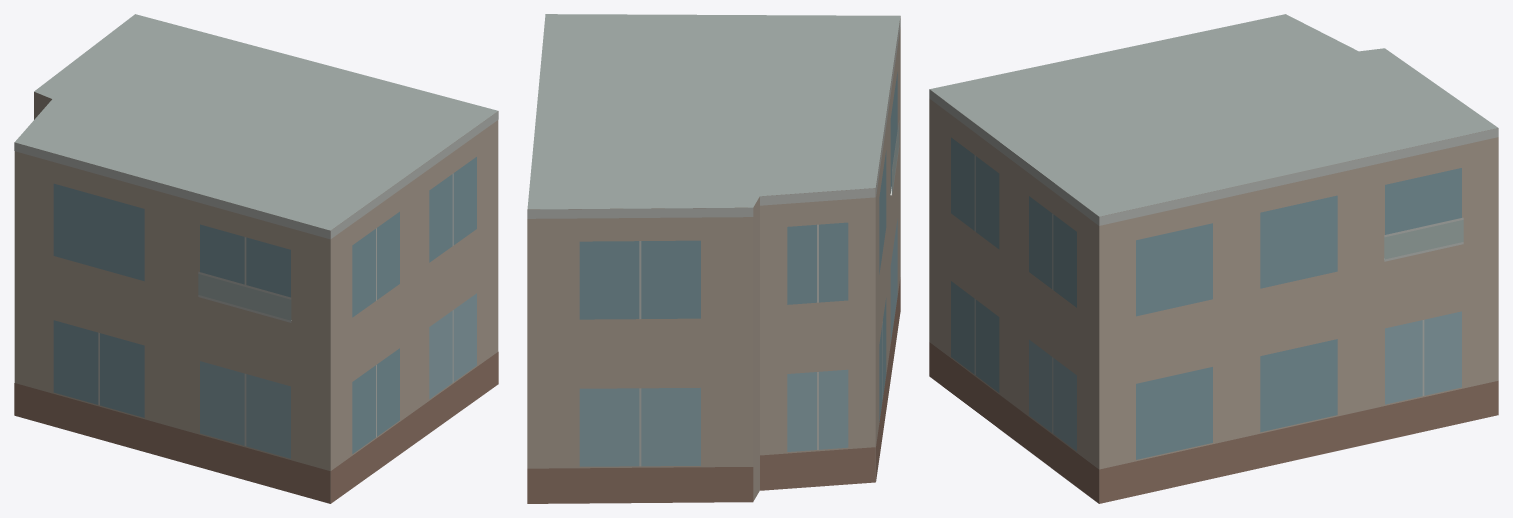
Rendered from survey-upis-32596282.glb.
3 views of the same model, side by side, from view 1: azimuth 30°, elevation 25°; view 2: azimuth 150°, elevation 25°; view 3: azimuth 270°, elevation 25° (orthographic). The views are drawn at different scales.
Visible parts, largest first — view 1: survey-upis-32596282.tmp; view 2: survey-upis-32596282.tmp; view 3: survey-upis-32596282.tmp.
Part boxes in pixels (bbox=[...]): survey-upis-32596282.tmp: bbox=[14, 14, 498, 503]; survey-upis-32596282.tmp: bbox=[527, 14, 900, 503]; survey-upis-32596282.tmp: bbox=[929, 14, 1498, 503].
Bounding box in the file's own units: 11.52 × 7.6 × 13.66.
